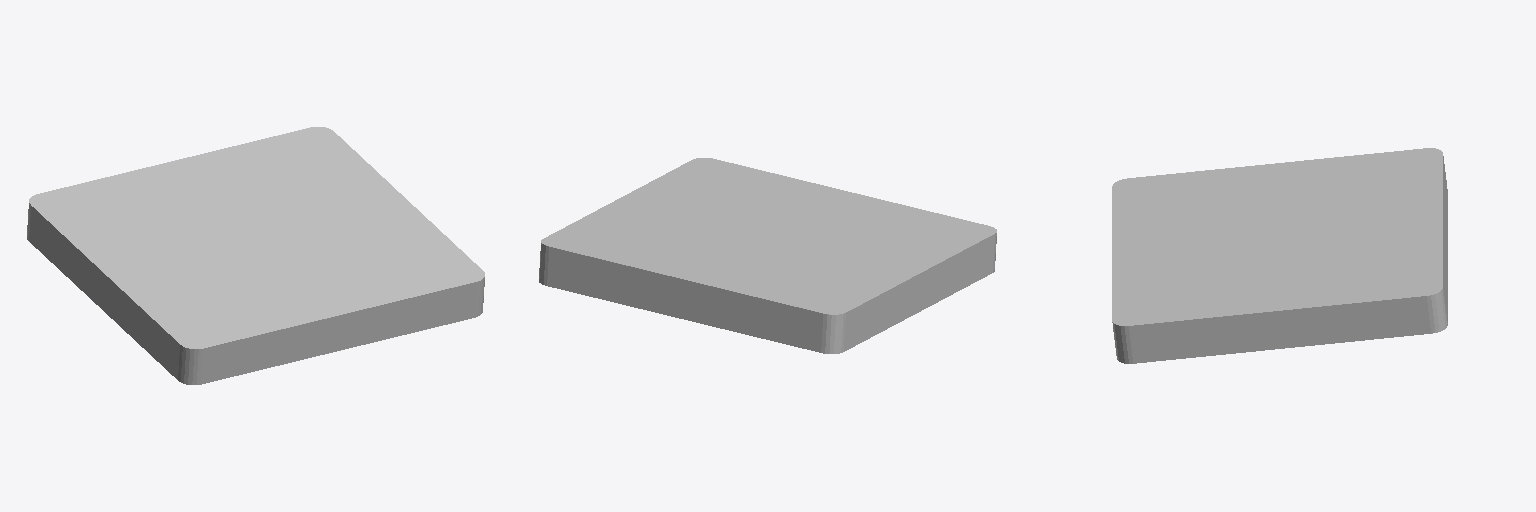
Rendered from original-49.obj.
The picture shows the model from 3 angles: view 1: azimuth 30°, elevation 25°; view 2: azimuth 150°, elevation 25°; view 3: azimuth 270°, elevation 25°; orthographic projection.
Parts seen in each view (by area): view 1: mesh48/mesh48-geometry#mesh48-geometry; view 2: mesh48/mesh48-geometry#mesh48-geometry; view 3: mesh48/mesh48-geometry#mesh48-geometry.
Boxes of the visible parts, x1=… form: mesh48/mesh48-geometry#mesh48-geometry: x1=27, y1=127, x2=484, y2=384; mesh48/mesh48-geometry#mesh48-geometry: x1=539, y1=158, x2=996, y2=353; mesh48/mesh48-geometry#mesh48-geometry: x1=1112, y1=148, x2=1447, y2=363.
Size of the model in its own units: 0.1061 by 0.0238 by 0.1019.